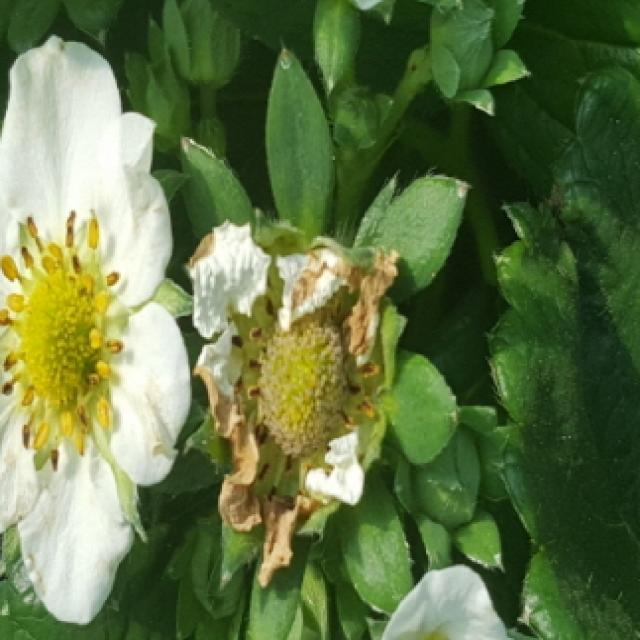Blossom Blight: (226, 271, 382, 512), (0, 206, 128, 475)
